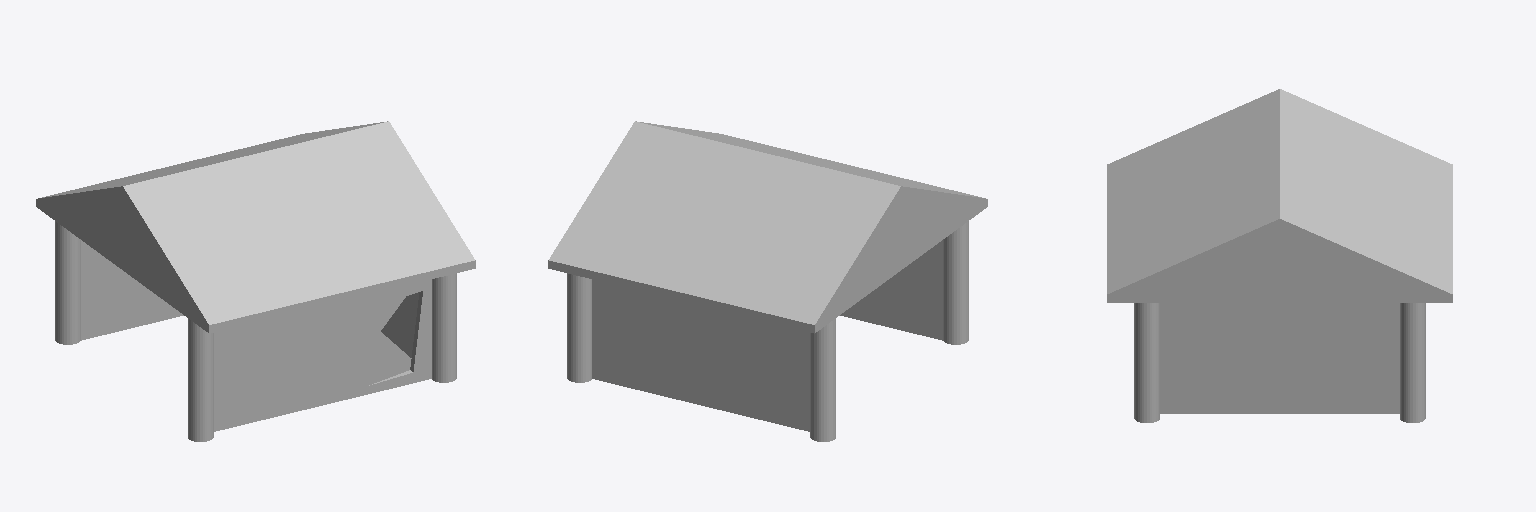
The model's file is inside.obj.
3 views of the same model, side by side, from view 1: azimuth 30°, elevation 25°; view 2: azimuth 150°, elevation 25°; view 3: azimuth 270°, elevation 25° (orthographic).
Parts seen in each view (by area): view 1: 圓柱體.003; view 2: 圓柱體.003; view 3: 圓柱體.003.
Part boxes in pixels (left/top/right/bottom): 圓柱體.003: left=36, top=121, right=475, bottom=441; 圓柱體.003: left=548, top=121, right=987, bottom=441; 圓柱體.003: left=1107, top=89, right=1452, bottom=422.
Bounding box in the file's own units: 23.14 × 16.98 × 26.